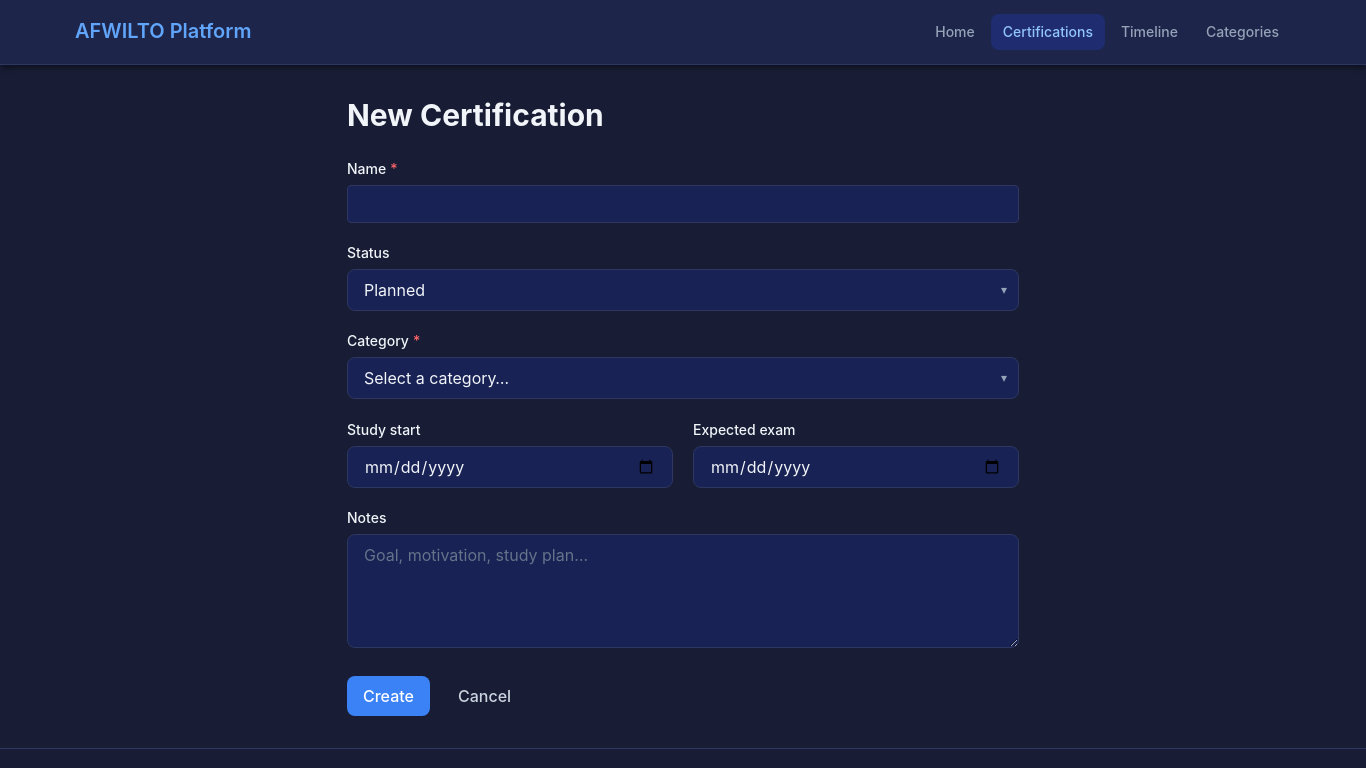
CertificationFormPage (create) › AC-7: valid create shows success toast and returns to the journey list
Type "AWS Solutions Architect" into the field labelled "Name*". click: point(683, 204)
box: [347,184,1019,222]
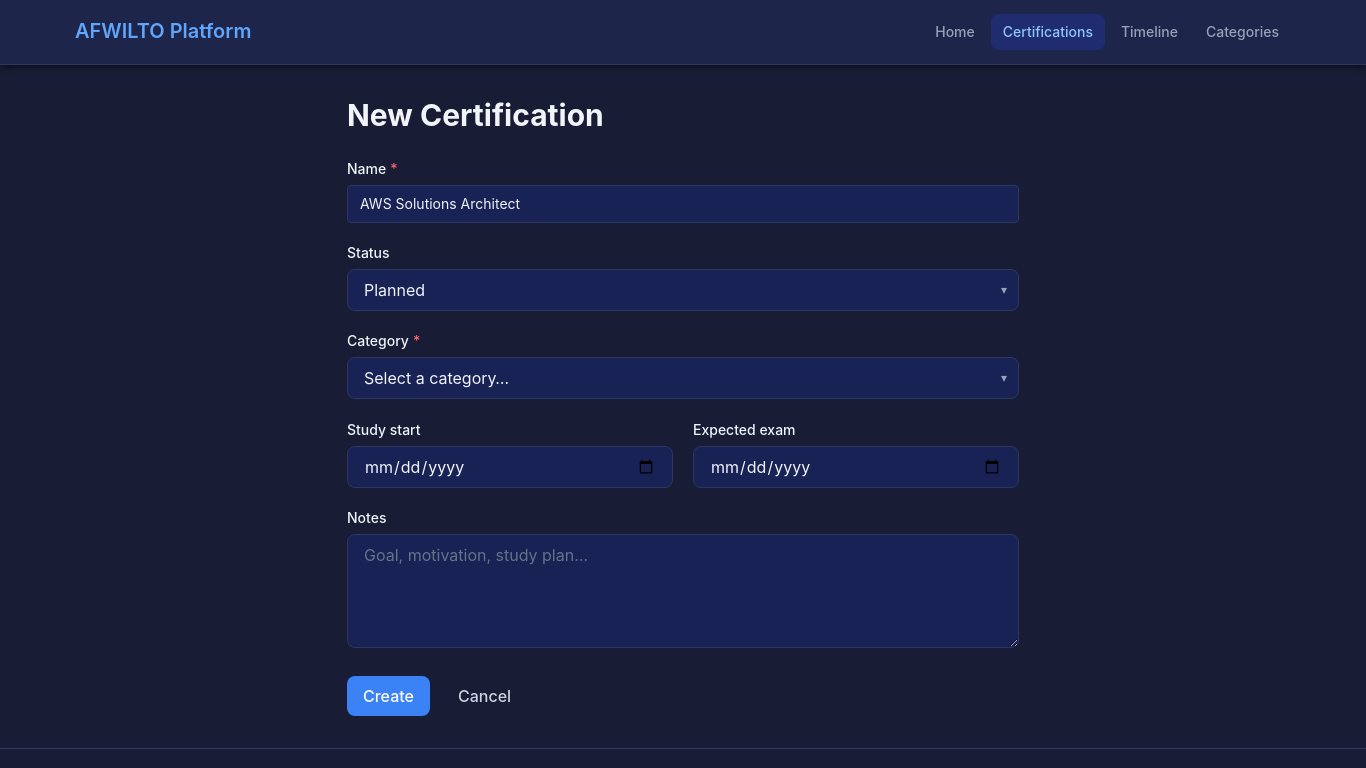
Select "TI / Cloud" in the dropdown labelled "Category*". click: point(683, 378)
box: [347,356,1019,398]
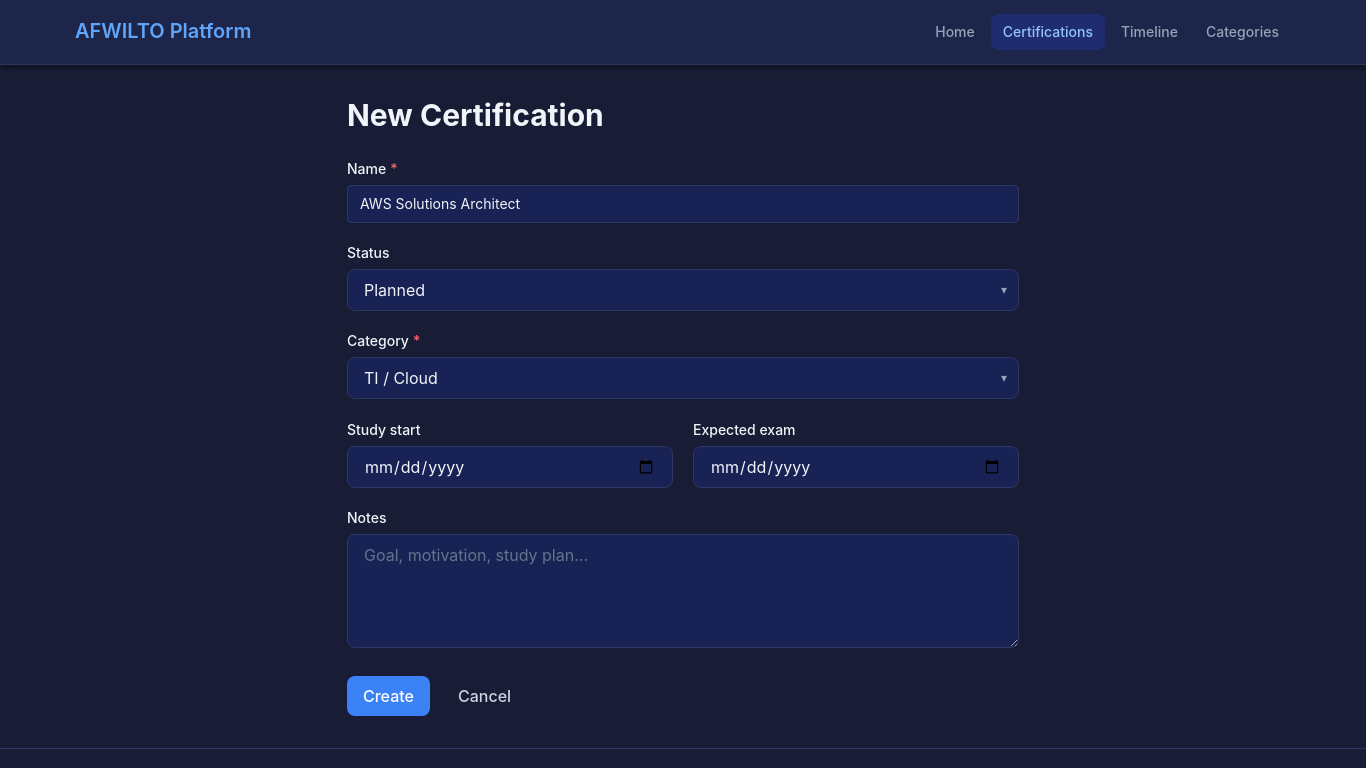
Click the button "Create". click: point(388, 696)
box: [347,676,430,716]
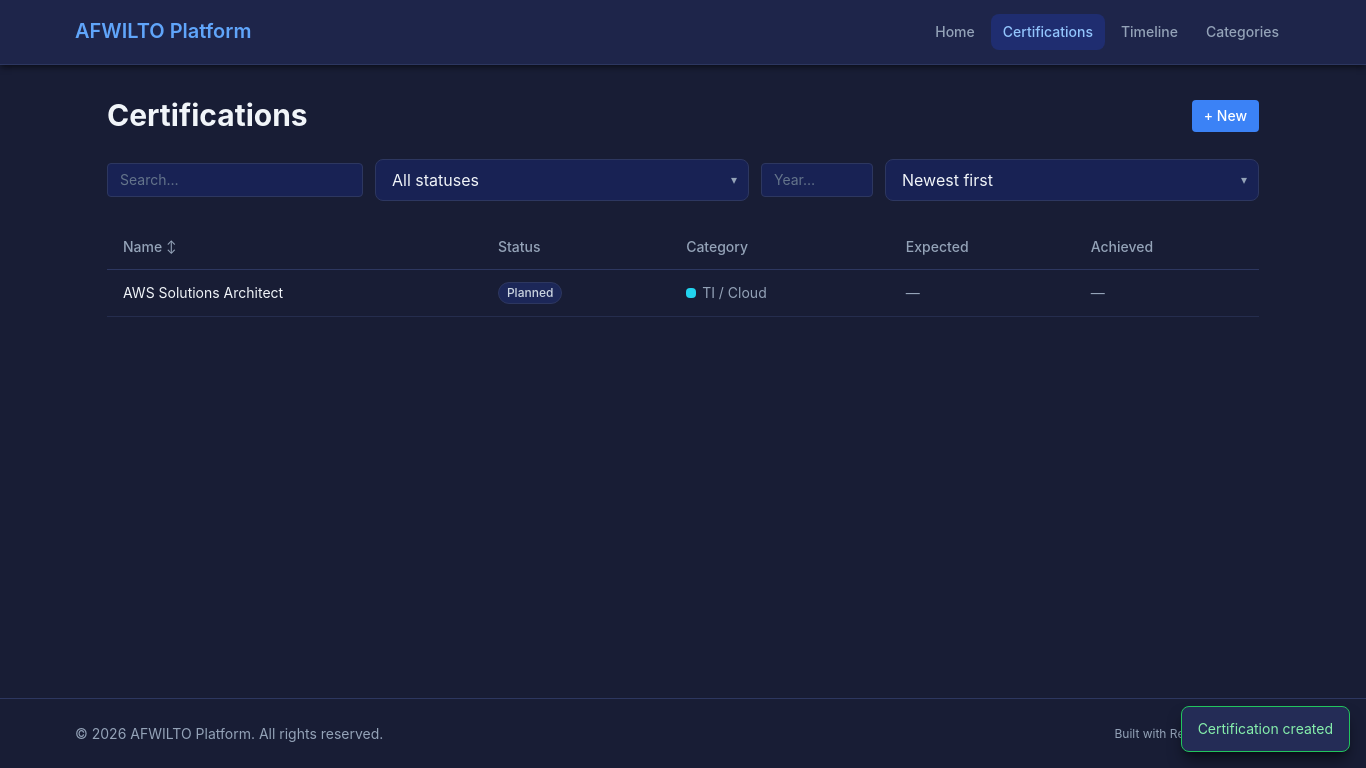
Check: the text "Certification created" is shown, box [1181,706,1350,752]
Check: the heading "Certifications" is shown, box [107,97,308,134]
Check: the text "AWS Solutions Architect" is shown, box [107,269,482,316]
